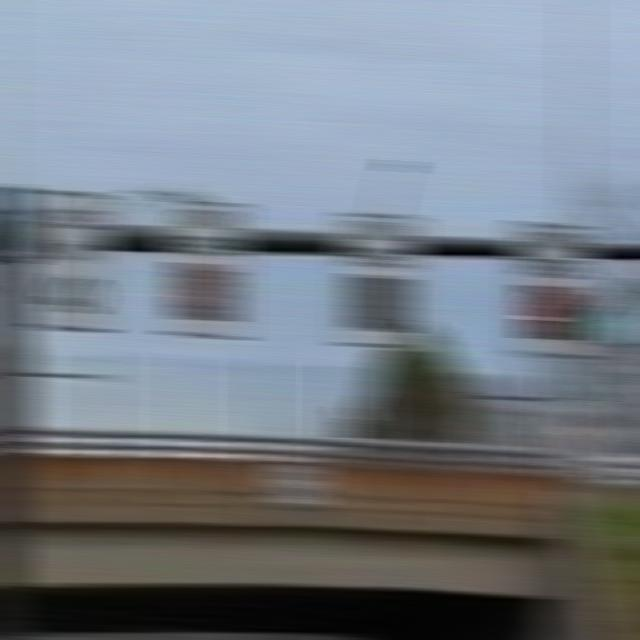speedLimit40: (30, 192, 113, 334)
